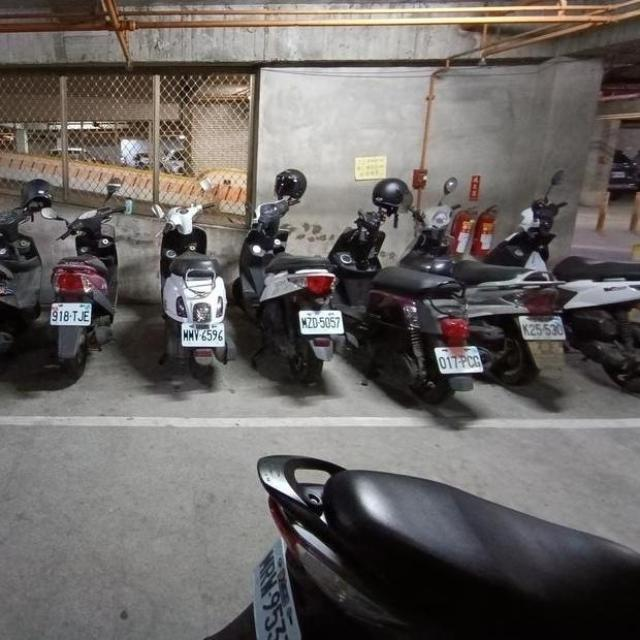W: (431, 338, 483, 378), (515, 308, 569, 344), (294, 302, 345, 340), (179, 319, 226, 350), (48, 298, 93, 328)
